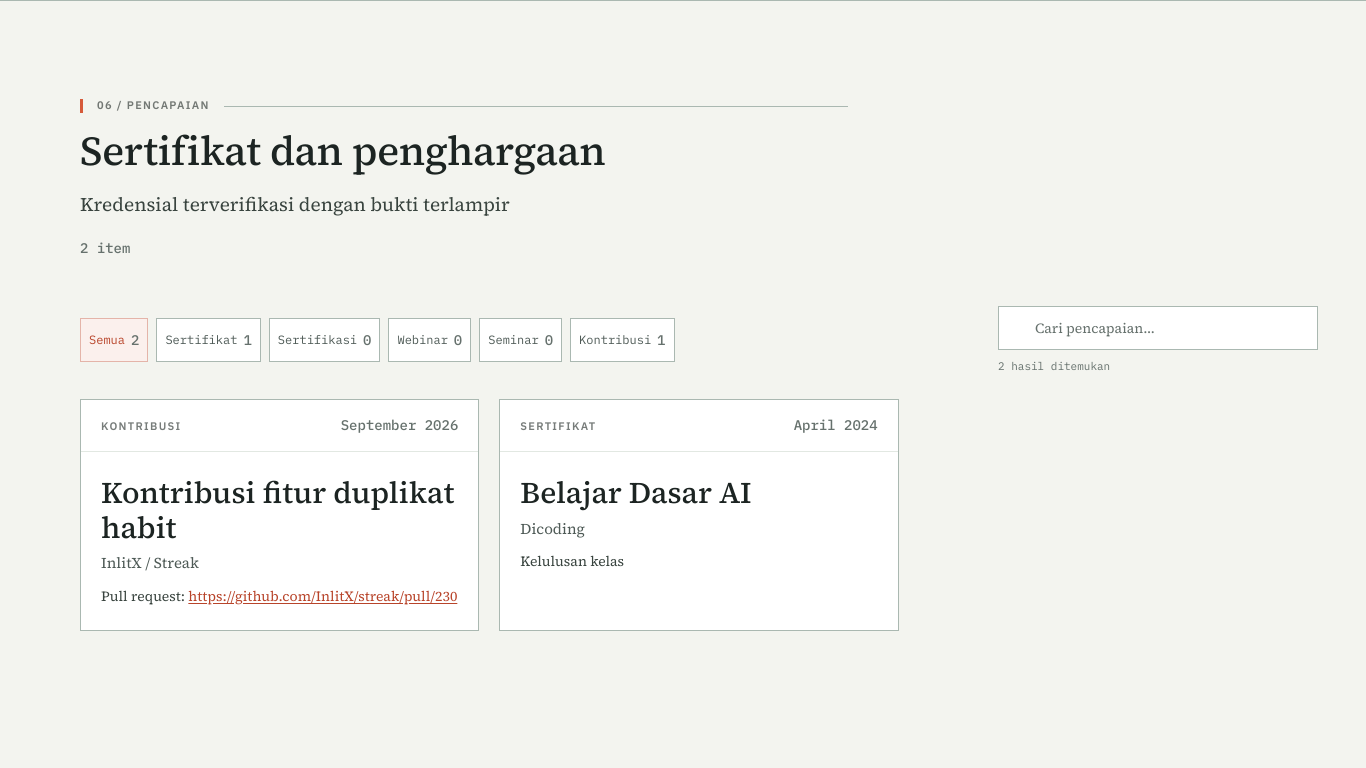
AchievementsSection › filters down to contributions only
Click the button with class "chip" showing "Kontribusi 1" at coordinates (622, 340), box [570, 318, 674, 362]
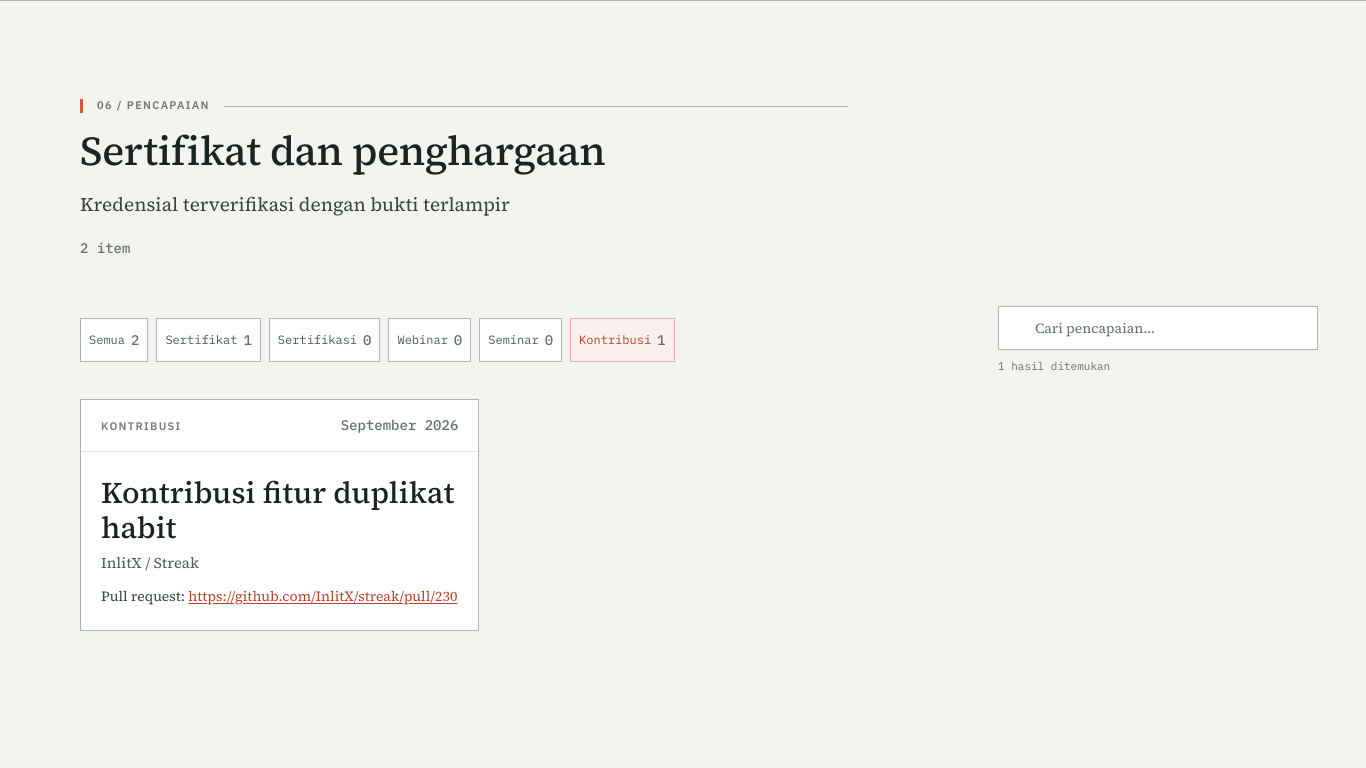
Expected: the number of elements with class "figure-block" is 1, [80, 399, 479, 631]
Expected: the text "Belajar Dasar AI" is gone
